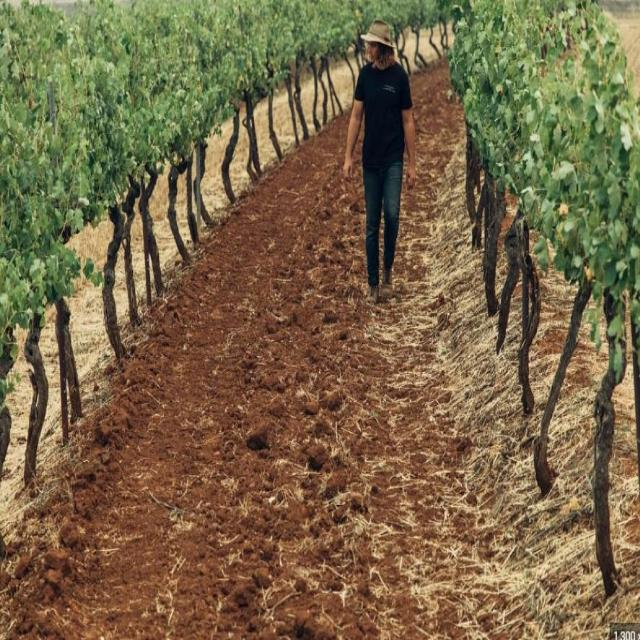row: (24, 53, 568, 640)
